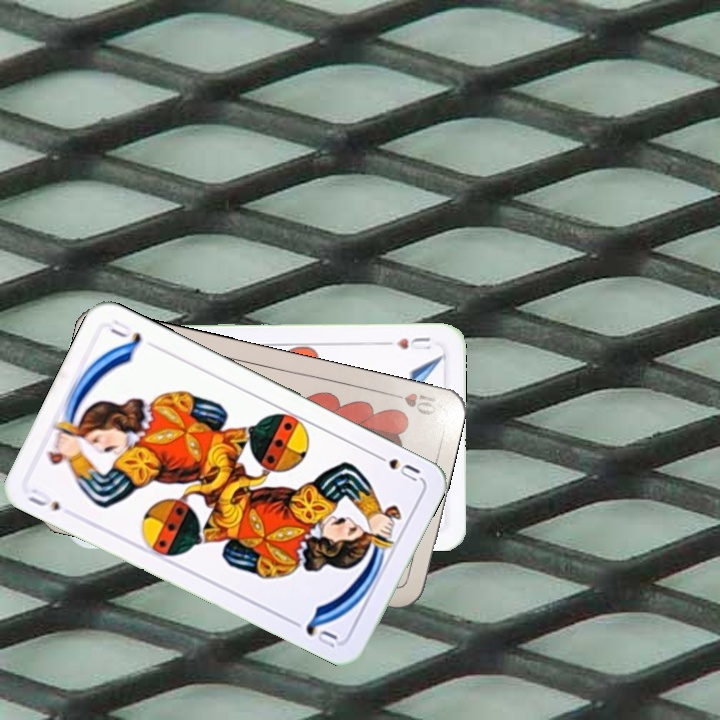H10: (383, 388, 443, 418)
HU: (381, 333, 434, 353)
SU: (368, 449, 423, 484), (24, 484, 63, 514)
